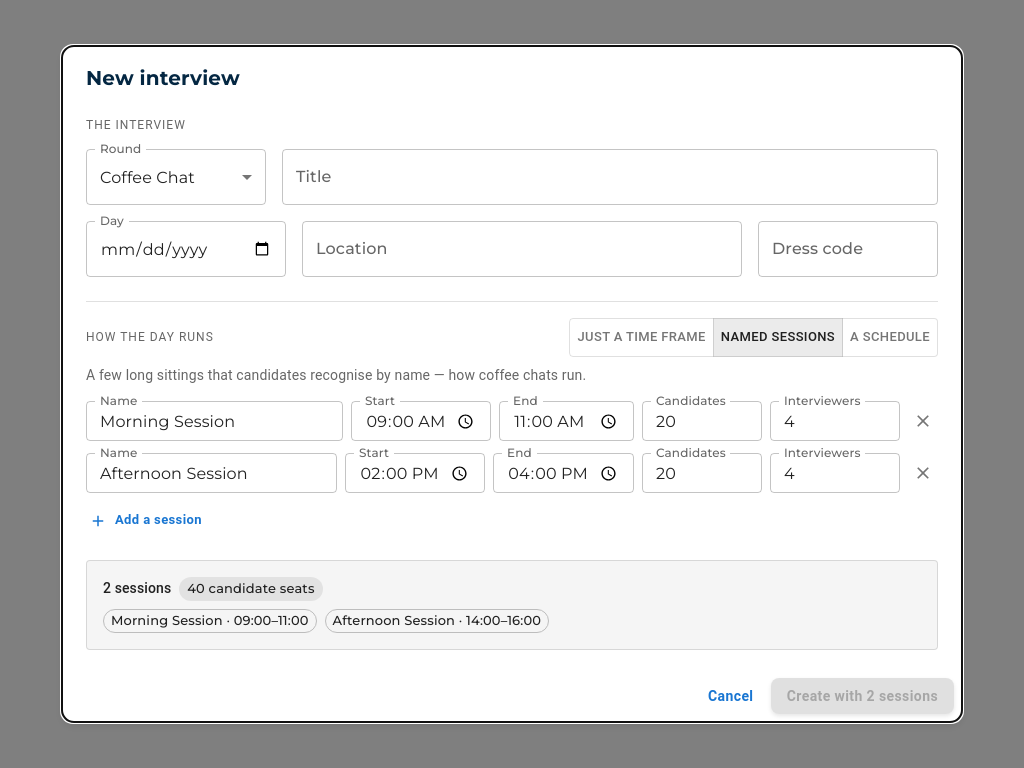
Scenario: InterviewCreateDialog › switches to a day schedule when asked for one
Click the dropdown named "round" at (148, 177), box [100,168,195,187]
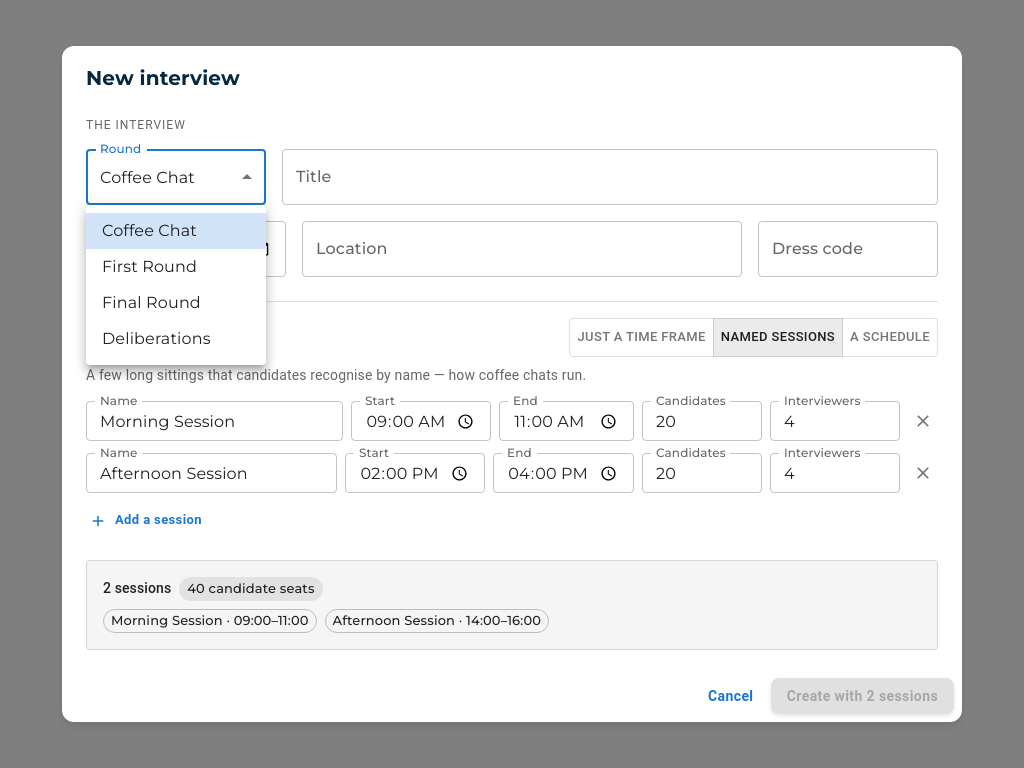
Click the option "First Round" at (150, 266), box [102,257,197,276]
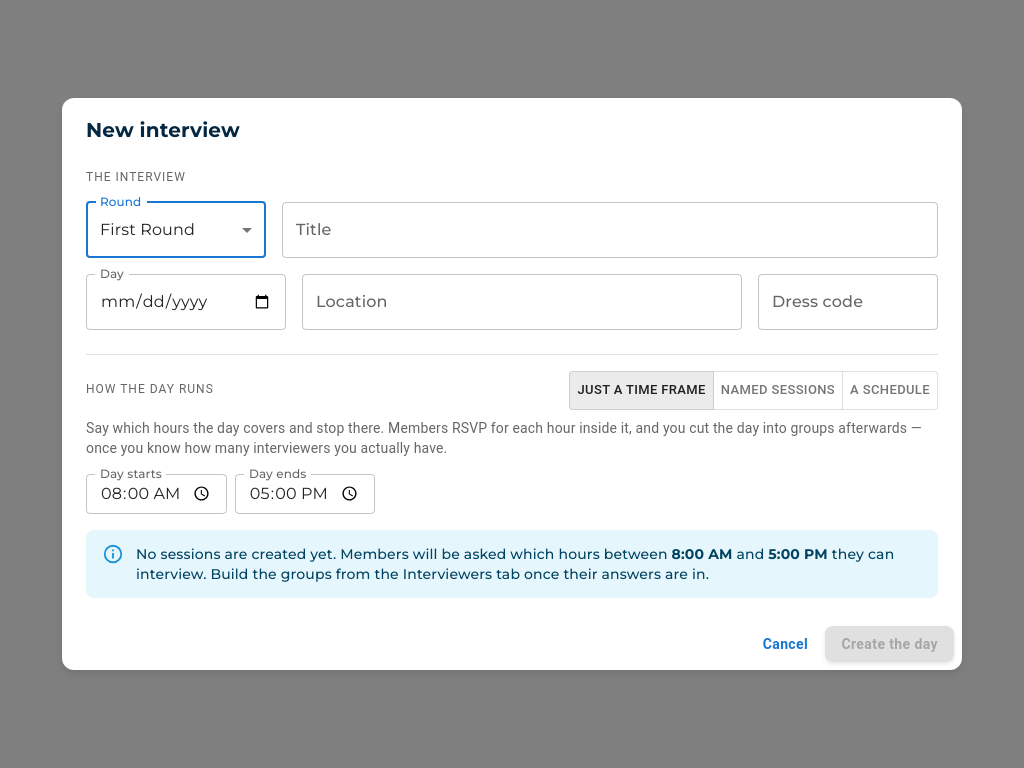
Click the button "A schedule" at (890, 390), box [842,371,938,410]
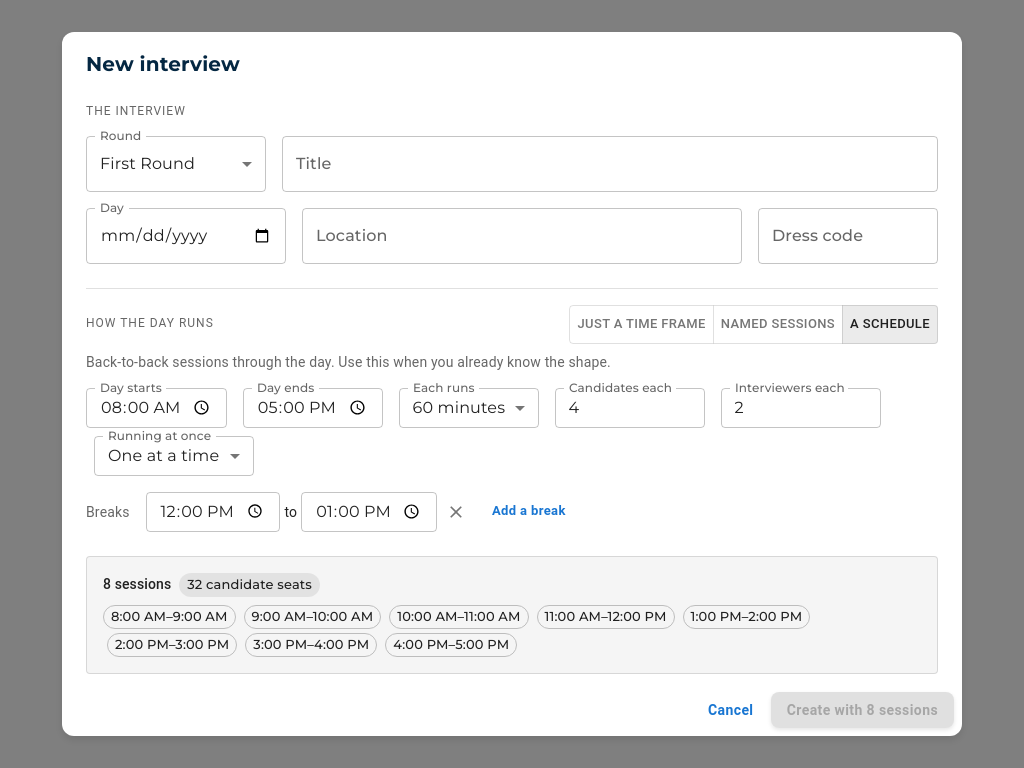
Check: the heading "8 sessions" is shown, box [103,574,171,596]
Check: the text "32 candidate seats" is shown, box [179,575,320,594]
Check: the text "8:00 AM–9:00 AM" is shown, box [104,607,235,626]
